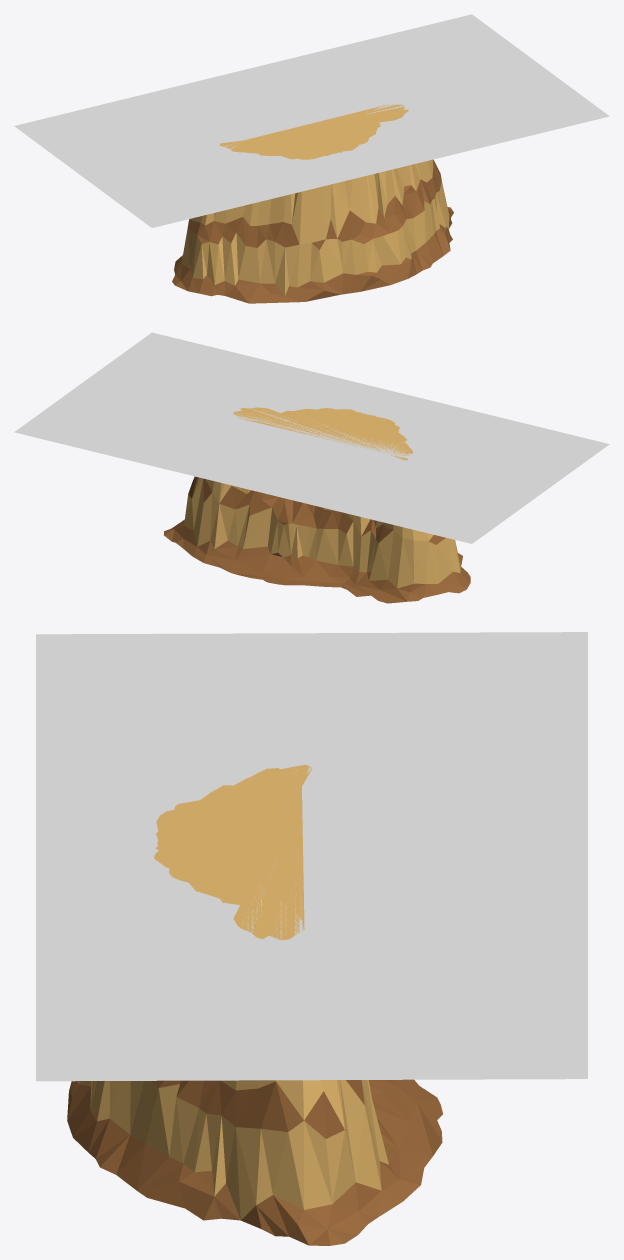
The model's file is MountingTopless.fbx.
The picture shows the model from 3 angles, top to bottom: view 1: azimuth 30°, elevation 25°; view 2: azimuth 150°, elevation 25°; view 3: azimuth 270°, elevation 25°; orthographic projection. The views are drawn at different scales.
Visible parts, largest first — view 1: Plane, Mounting_3; view 2: Plane, Mounting_3; view 3: Plane, Mounting_3.
Part boxes in pixels (bbox=[...]): Plane: bbox=[14, 14, 609, 227]; Mounting_3: bbox=[172, 104, 453, 303]; Plane: bbox=[14, 332, 609, 543]; Mounting_3: bbox=[164, 407, 470, 603]; Plane: bbox=[36, 632, 587, 1081]; Mounting_3: bbox=[67, 765, 442, 1245].
Size of the model in its own units: 3910 by 1036 by 2041.
